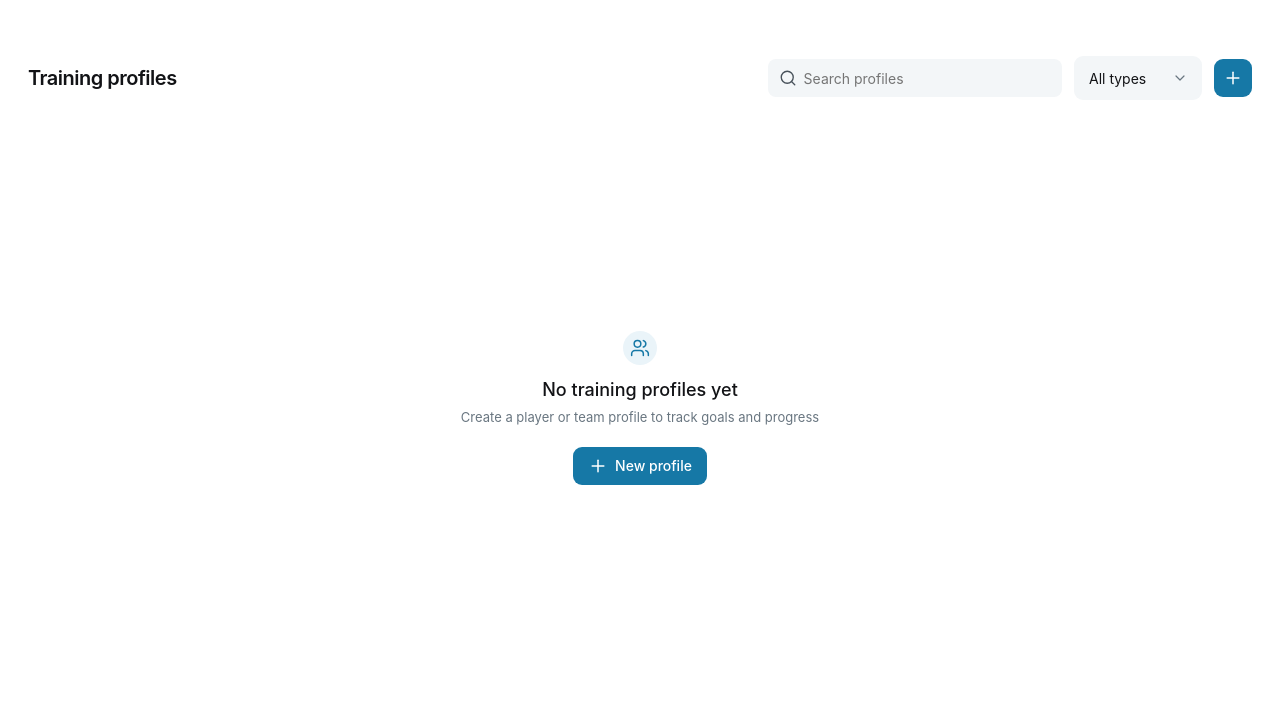
it: empty profiles offer creation and the modal traps focus and restores it on Escape
The width and height of the screenshot is (1280, 720).
Click the button "New profile".
click(640, 466)  # box top-left (573, 446), bottom-right (707, 484)
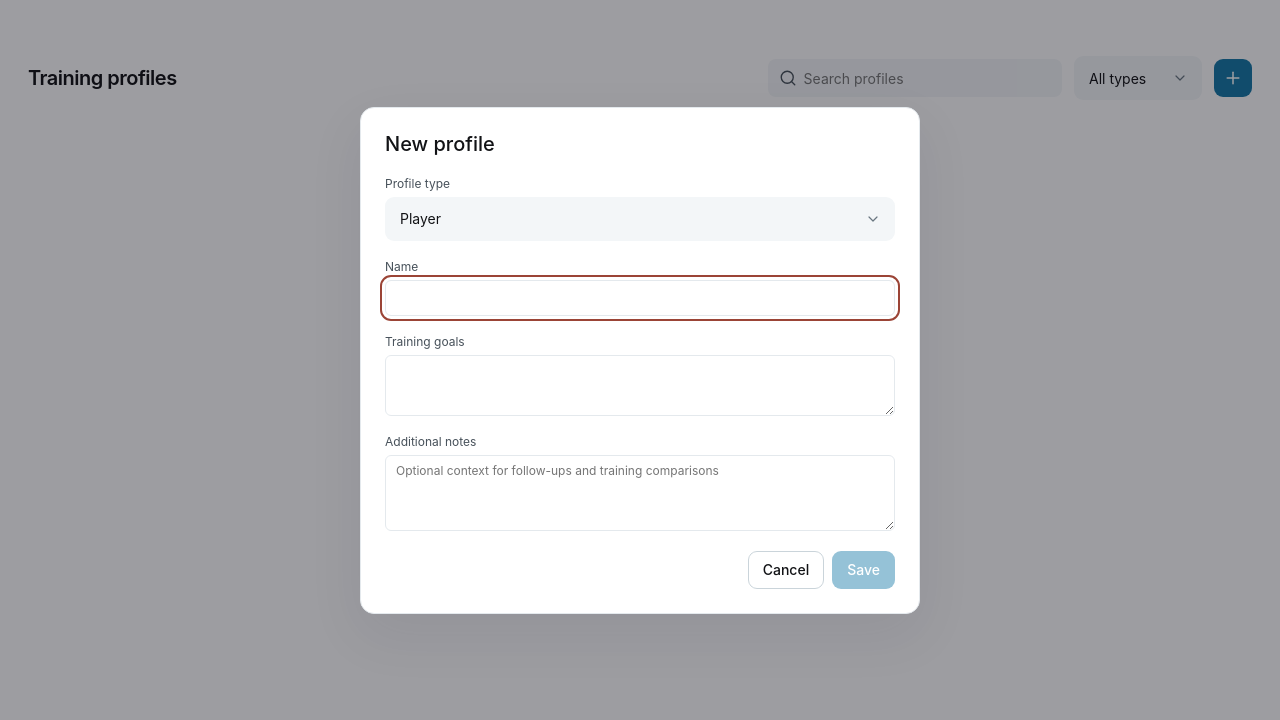
Type "Alex" into the field labelled "Name".
click(640, 298); type("Alex")  # box top-left (385, 280), bottom-right (895, 316)
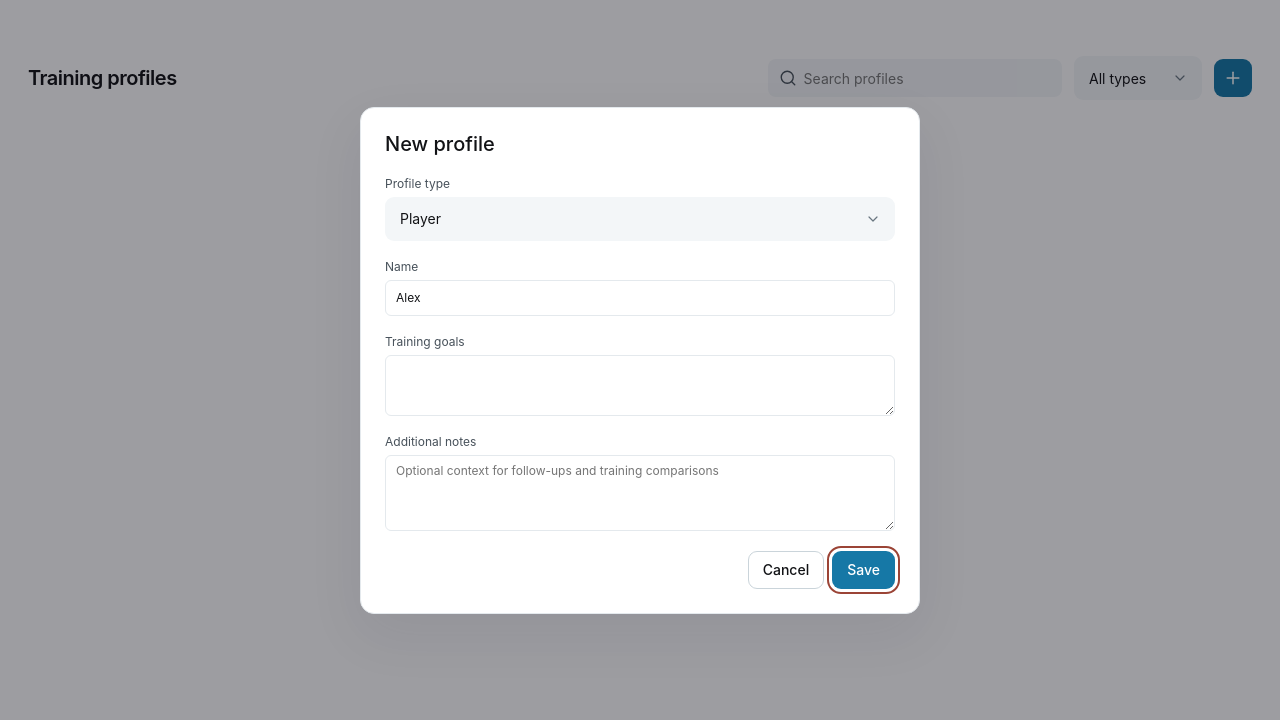
Press Tab
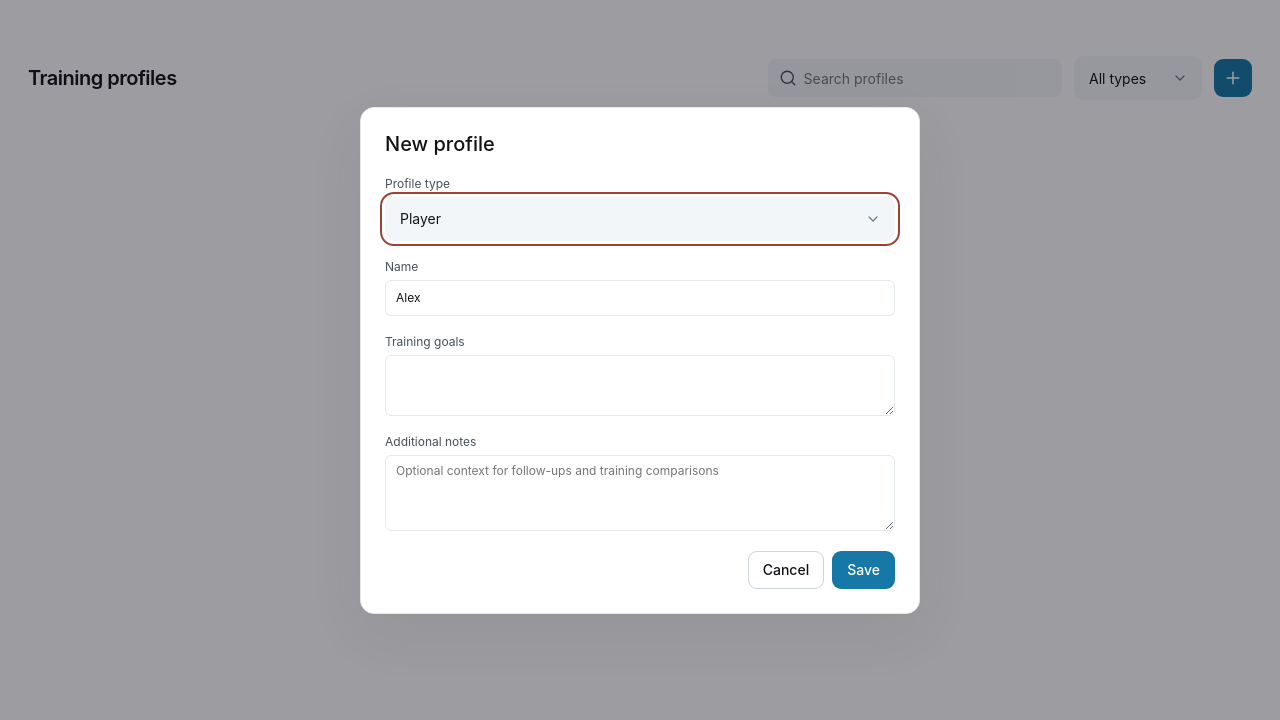
Press Escape
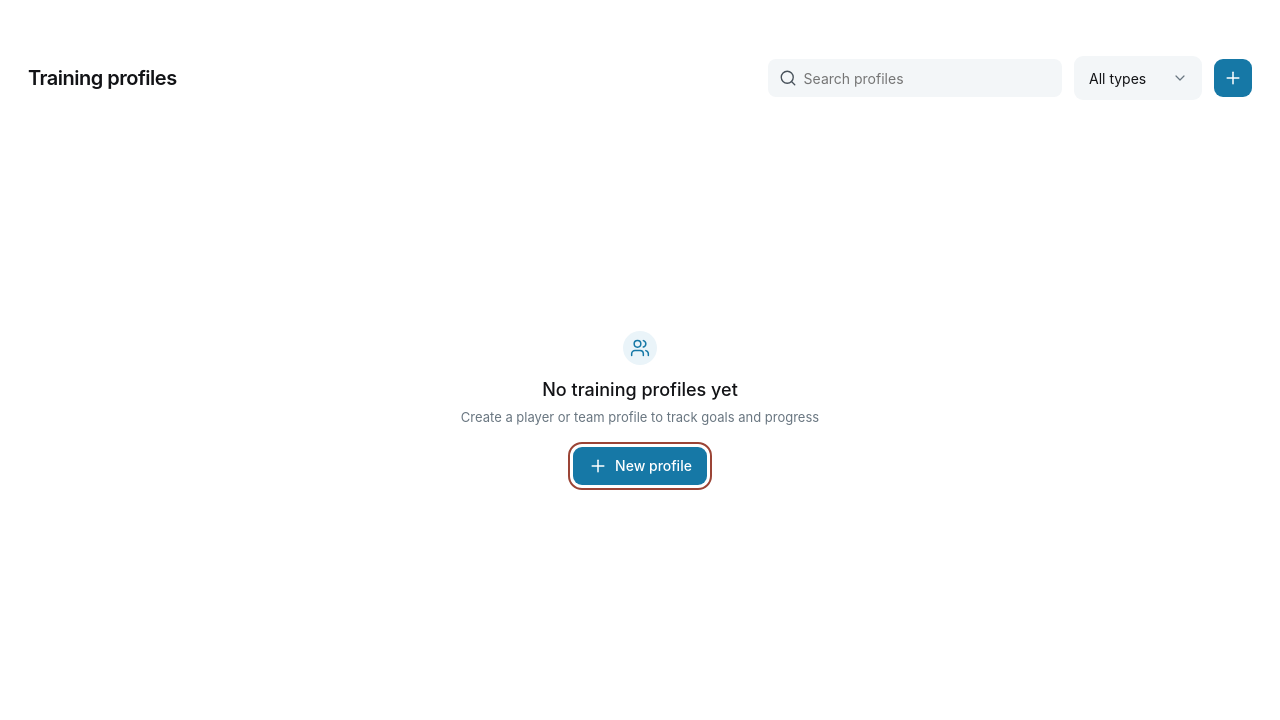
Result: the dialog is gone
